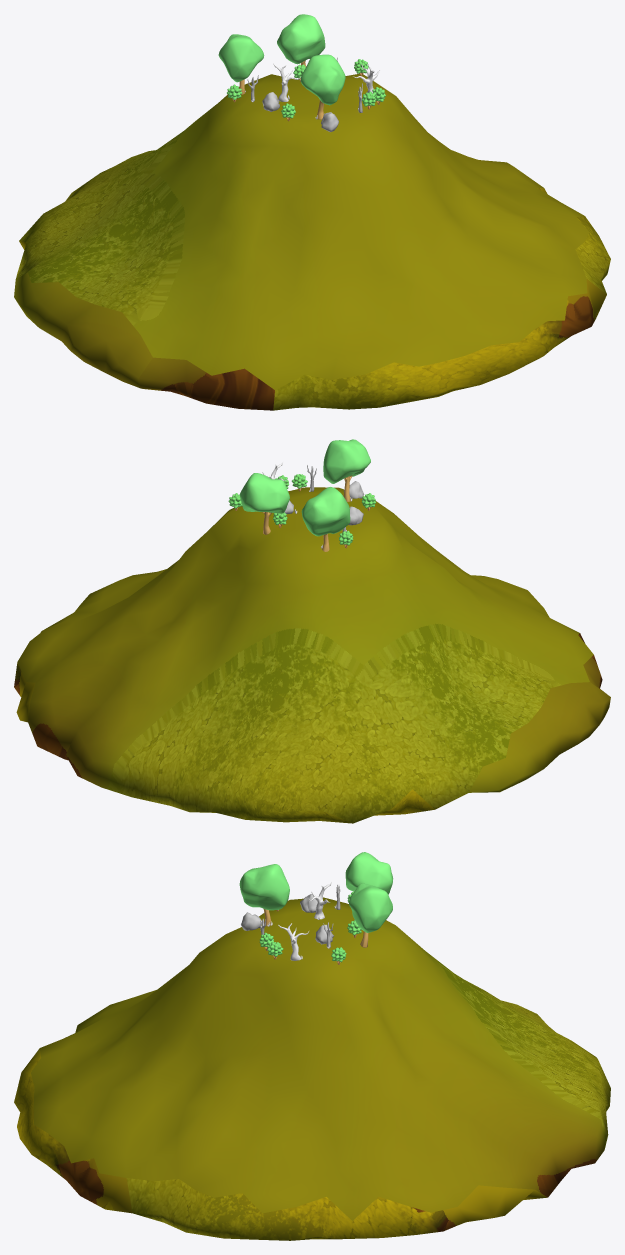
File: MiniislandBloSDet.fbx
The picture shows the model from 3 angles, top to bottom: view 1: azimuth 30°, elevation 25°; view 2: azimuth 150°, elevation 25°; view 3: azimuth 270°, elevation 25°; orthographic projection.
Parts seen in each view (by area): view 1: miniIslandlp, tree03lp.002, tree03lp.003, tree03lp.004; view 2: miniIslandlp, tree03lp.004, tree03lp.003, tree03lp.002; view 3: miniIslandlp, tree03lp.003, tree03lp.002, tree03lp.004.
Boxes of the visible parts, left/top/right/bottom form: miniIslandlp: left=14, top=73, right=610, bottom=410; tree03lp.002: left=277, top=14, right=325, bottom=66; tree03lp.003: left=300, top=54, right=345, bottom=119; tree03lp.004: left=218, top=34, right=264, bottom=94; miniIslandlp: left=14, top=487, right=610, bottom=823; tree03lp.004: left=301, top=487, right=350, bottom=551; tree03lp.003: left=323, top=439, right=370, bottom=501; tree03lp.002: left=239, top=473, right=289, bottom=534; miniIslandlp: left=14, top=897, right=610, bottom=1240; tree03lp.003: left=239, top=864, right=289, bottom=926; tree03lp.002: left=349, top=883, right=392, bottom=947; tree03lp.004: left=345, top=852, right=393, bottom=894.
Size of the model in its own units: 227 by 107 by 228.
